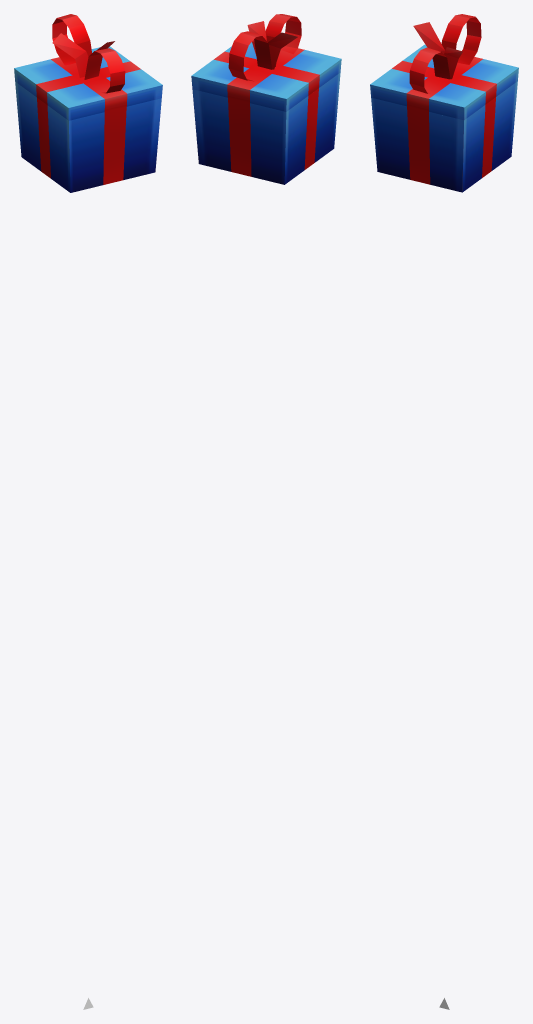
Rendered from XmasPresent_red.glb.
3 renders of one model, left to right at view 1: azimuth 30°, elevation 25°; view 2: azimuth 150°, elevation 25°; view 3: azimuth 330°, elevation 25°, orthographic.
Visible parts, largest first — view 1: box, lid; view 2: box, lid; view 3: box, lid.
Part boxes in pixels (left/top/right/bottom): box: left=15, top=82, right=161, bottom=1009; lid: left=14, top=14, right=162, bottom=120; box: left=192, top=72, right=340, bottom=184; lid: left=191, top=14, right=341, bottom=111; box: left=371, top=81, right=517, bottom=1009; lid: left=370, top=14, right=518, bottom=120.
Bounding box in the file's own units: 0.0895 × 0.8863 × 0.0954.
Materials: 2 (1 with a texture image).
